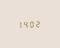four: (24, 20, 29, 28)
one: (18, 20, 23, 28)
two: (36, 19, 41, 27)
zero: (30, 19, 35, 27)
